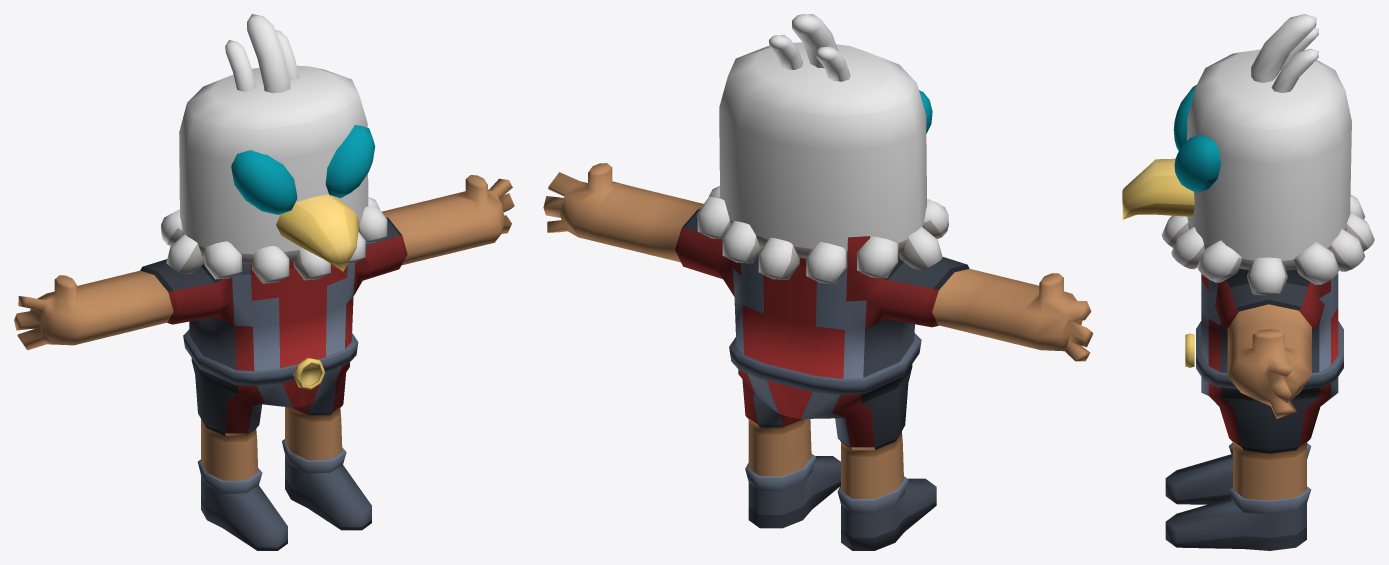
Rendered from ARVID_QUASE_pronto.fbx.
The picture shows the model from 3 angles, left to right: view 1: azimuth 30°, elevation 25°; view 2: azimuth 150°, elevation 25°; view 3: azimuth 270°, elevation 25°; orthographic projection. The views are drawn at different scales.
Parts seen in each view (by area): view 1: Corpo, Cabeça (mascara de aguia); view 2: Corpo, Cabeça (mascara de aguia); view 3: Cabeça (mascara de aguia), Corpo.
Part boxes in pixels (box(x1,y1,x2,y2)): Corpo: box(14, 175, 514, 550); Cabeça (mascara de aguia): box(161, 14, 387, 283); Corpo: box(543, 163, 1093, 550); Cabeça (mascara de aguia): box(697, 14, 948, 283); Cabeça (mascara de aguia): box(1122, 14, 1374, 295); Corpo: box(1165, 268, 1343, 550).
Size of the model in its own units: 131 by 121 by 54.87.
Materials: 1 (1 with a texture image).
